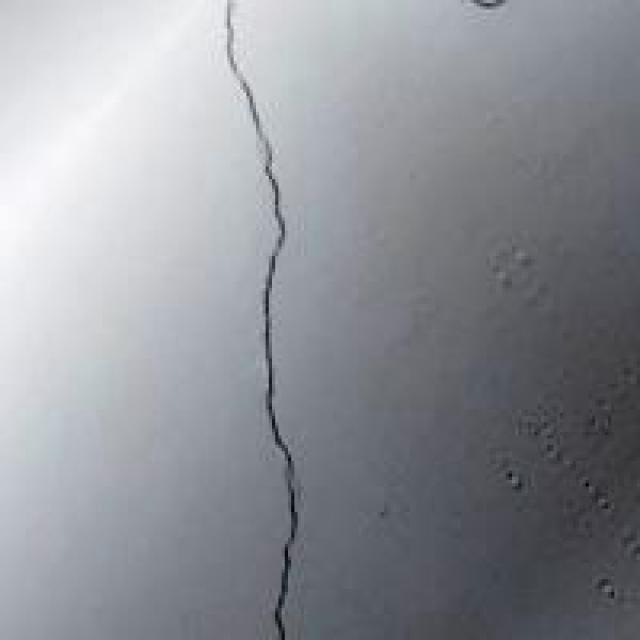crack: (196, 0, 362, 640)
